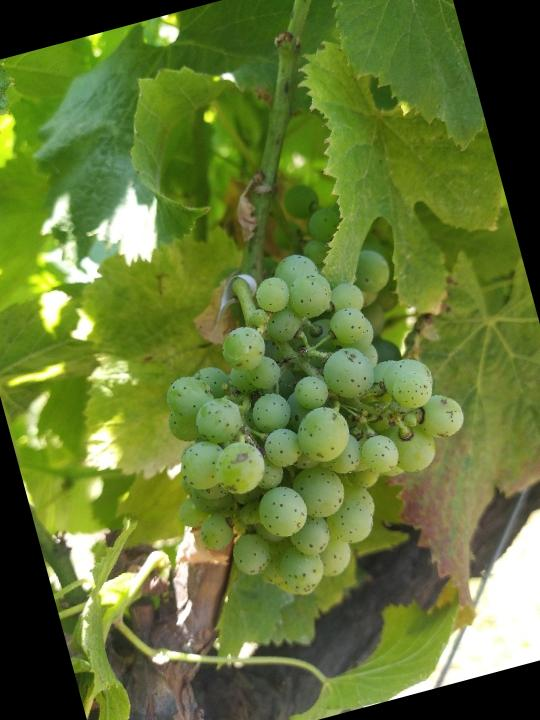grape: (116, 219, 500, 624)
